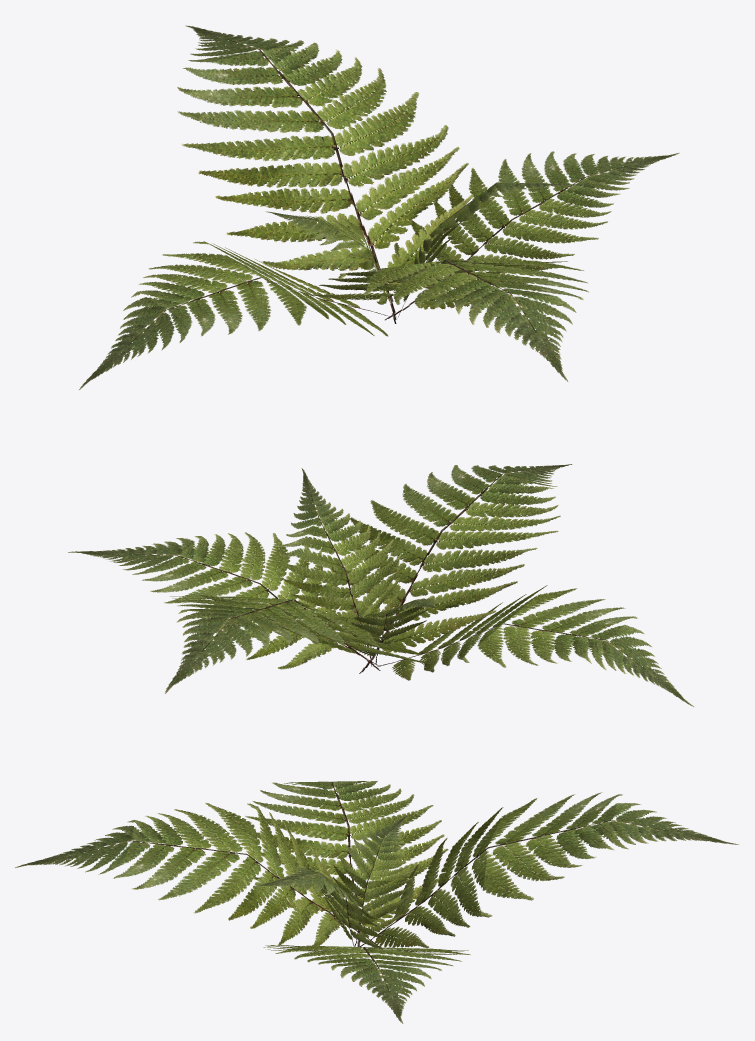
The model's file is fern1.glb.
The picture shows the model from 3 angles, top to bottom: view 1: azimuth 30°, elevation 25°; view 2: azimuth 150°, elevation 25°; view 3: azimuth 270°, elevation 25°; orthographic projection. The views are drawn at different scales.
Visible parts, largest first — view 1: fern1.002; view 2: fern1.002; view 3: fern1.002.
Part boxes in pixels (x1,y1,x2,y2): fern1.002: [79, 25, 679, 389]; fern1.002: [68, 464, 693, 706]; fern1.002: [15, 781, 738, 1023].
Size of the model in its own units: 1.88 by 0.4693 by 2.08.
1 material, 1 textured.
